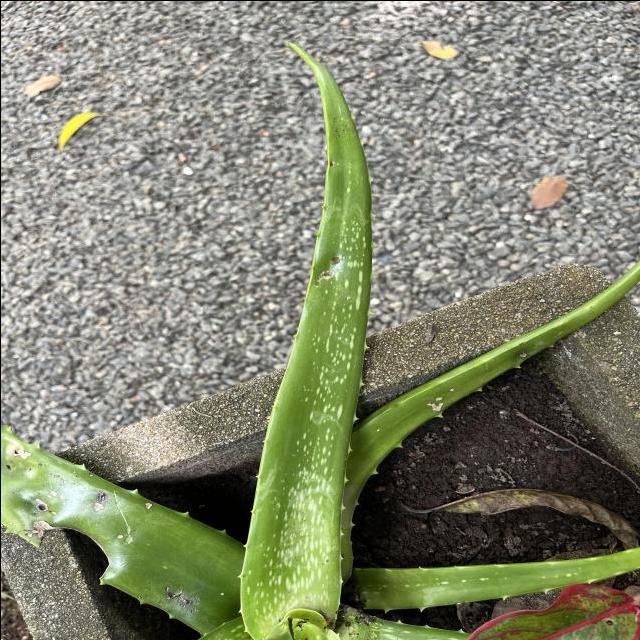Aloe vera: (230, 35, 377, 640)
